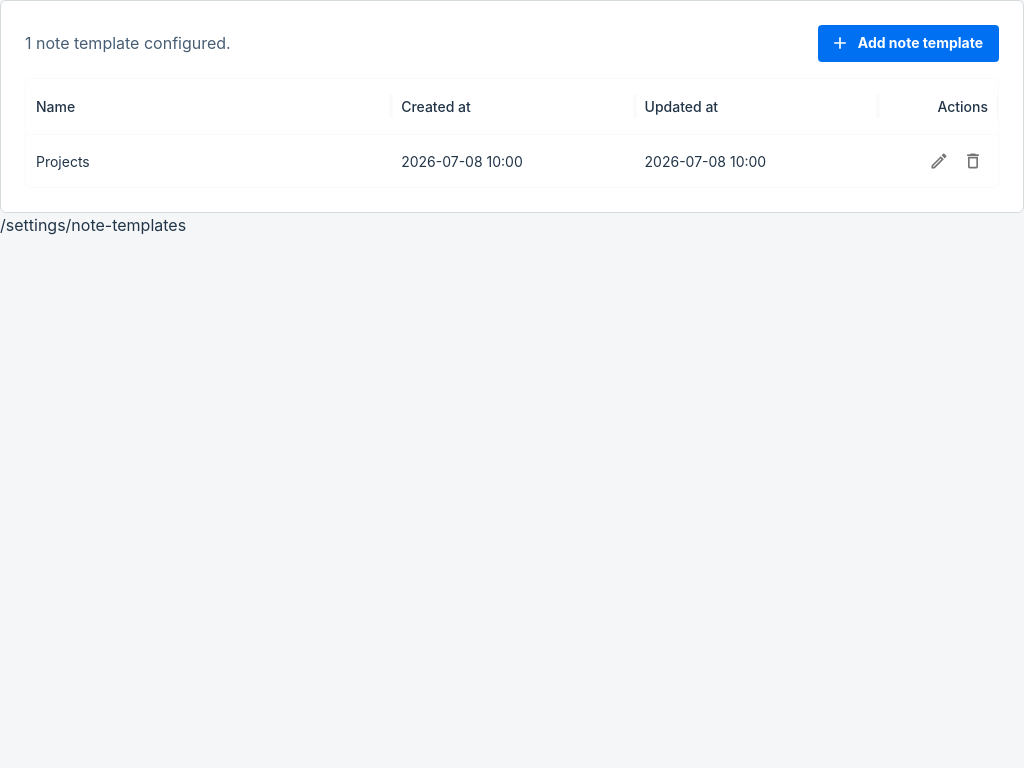
Scenario: NoteTypesSection › explains last-note-type recreation when deleting the final type with notes
Step 1. Click the button named "Delete note template" → (973, 161), box [958, 146, 988, 176]
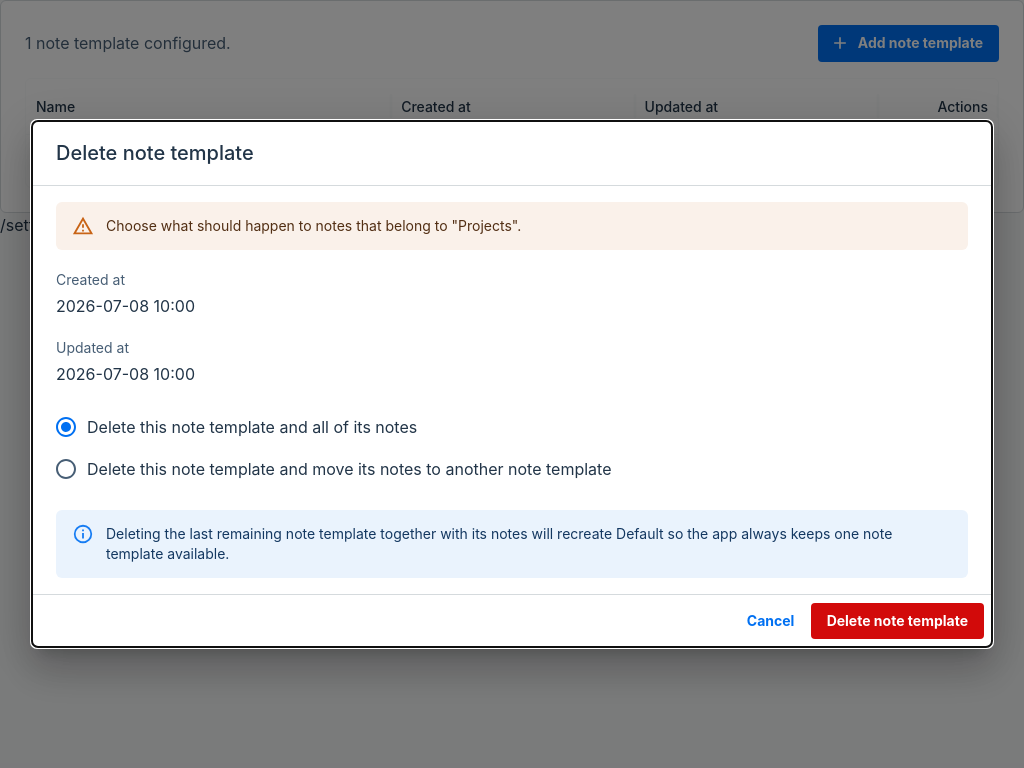
Now the text "recreate Default" is shown, box [106, 525, 892, 562]
